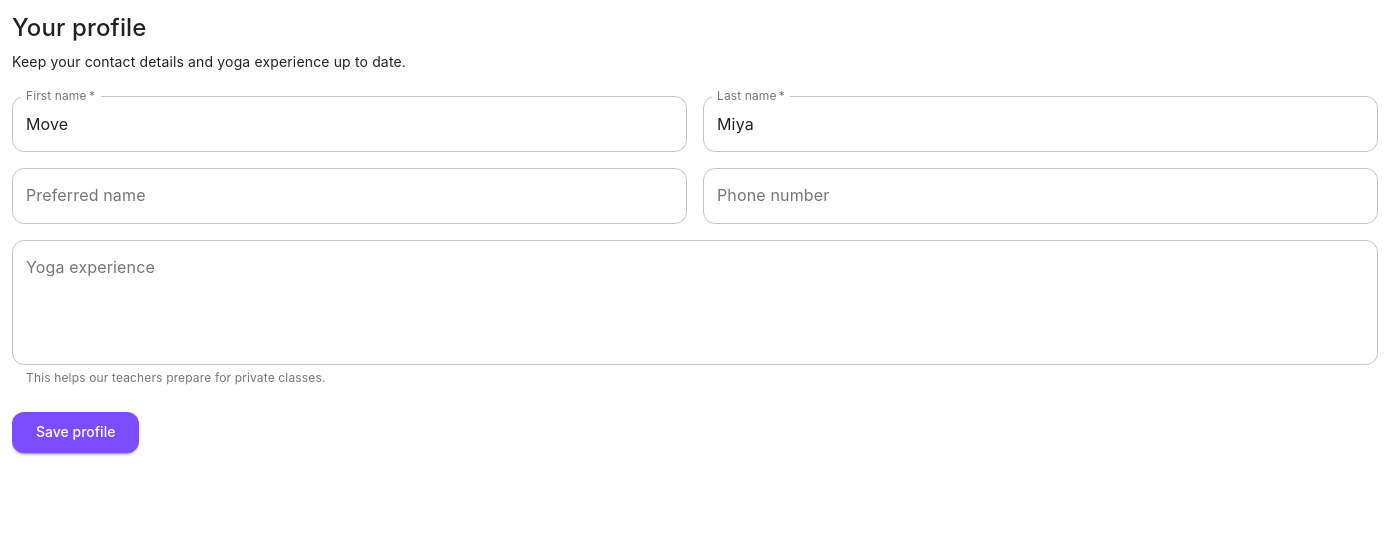
Scenario: ProfileForm › shows save failures
Click the button "Save profile".
click(76, 433)  # box [12, 412, 139, 453]
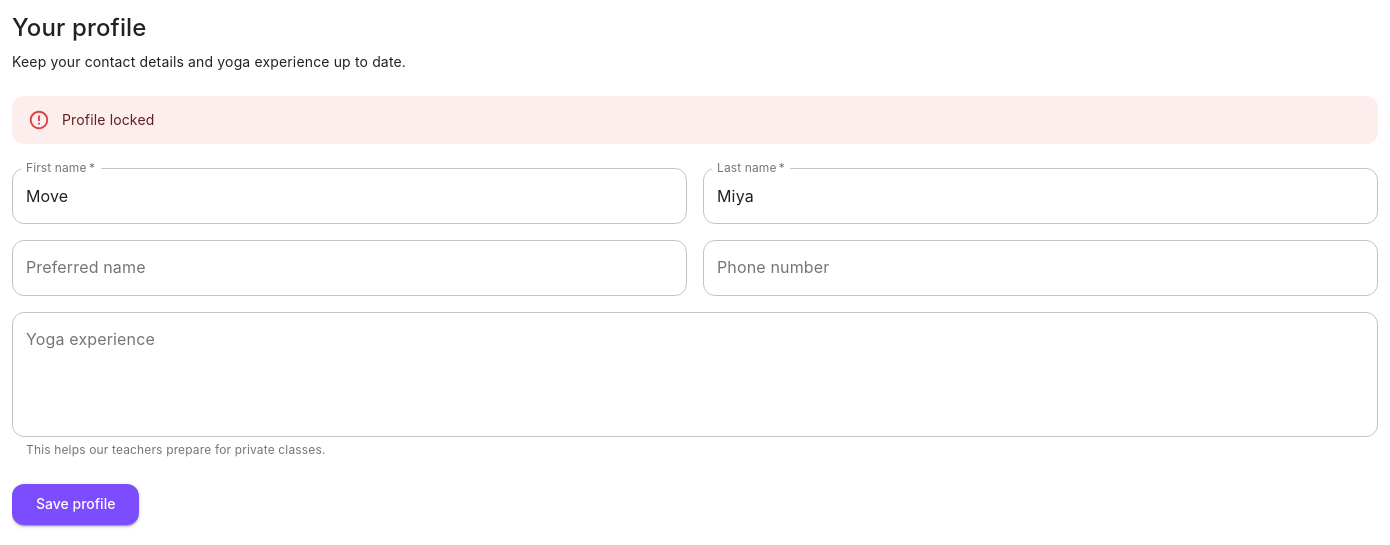
expect the text "Profile locked" is shown: met, box [62, 111, 154, 128]
